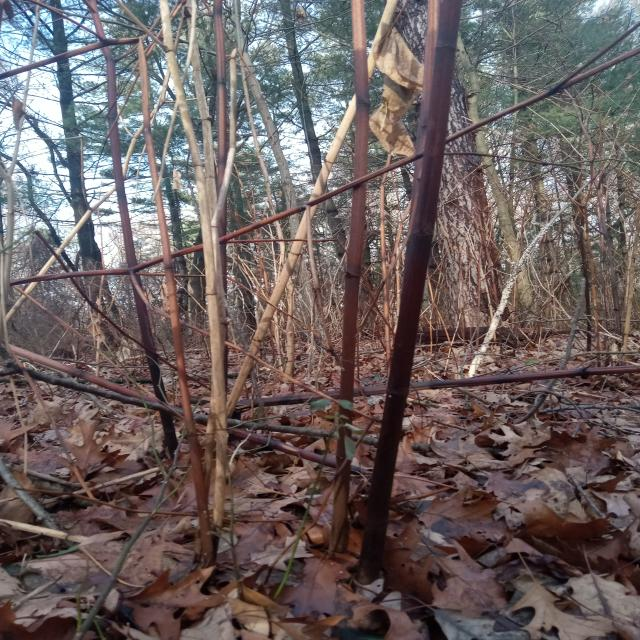knotweed-stems: (352, 0, 462, 586)
